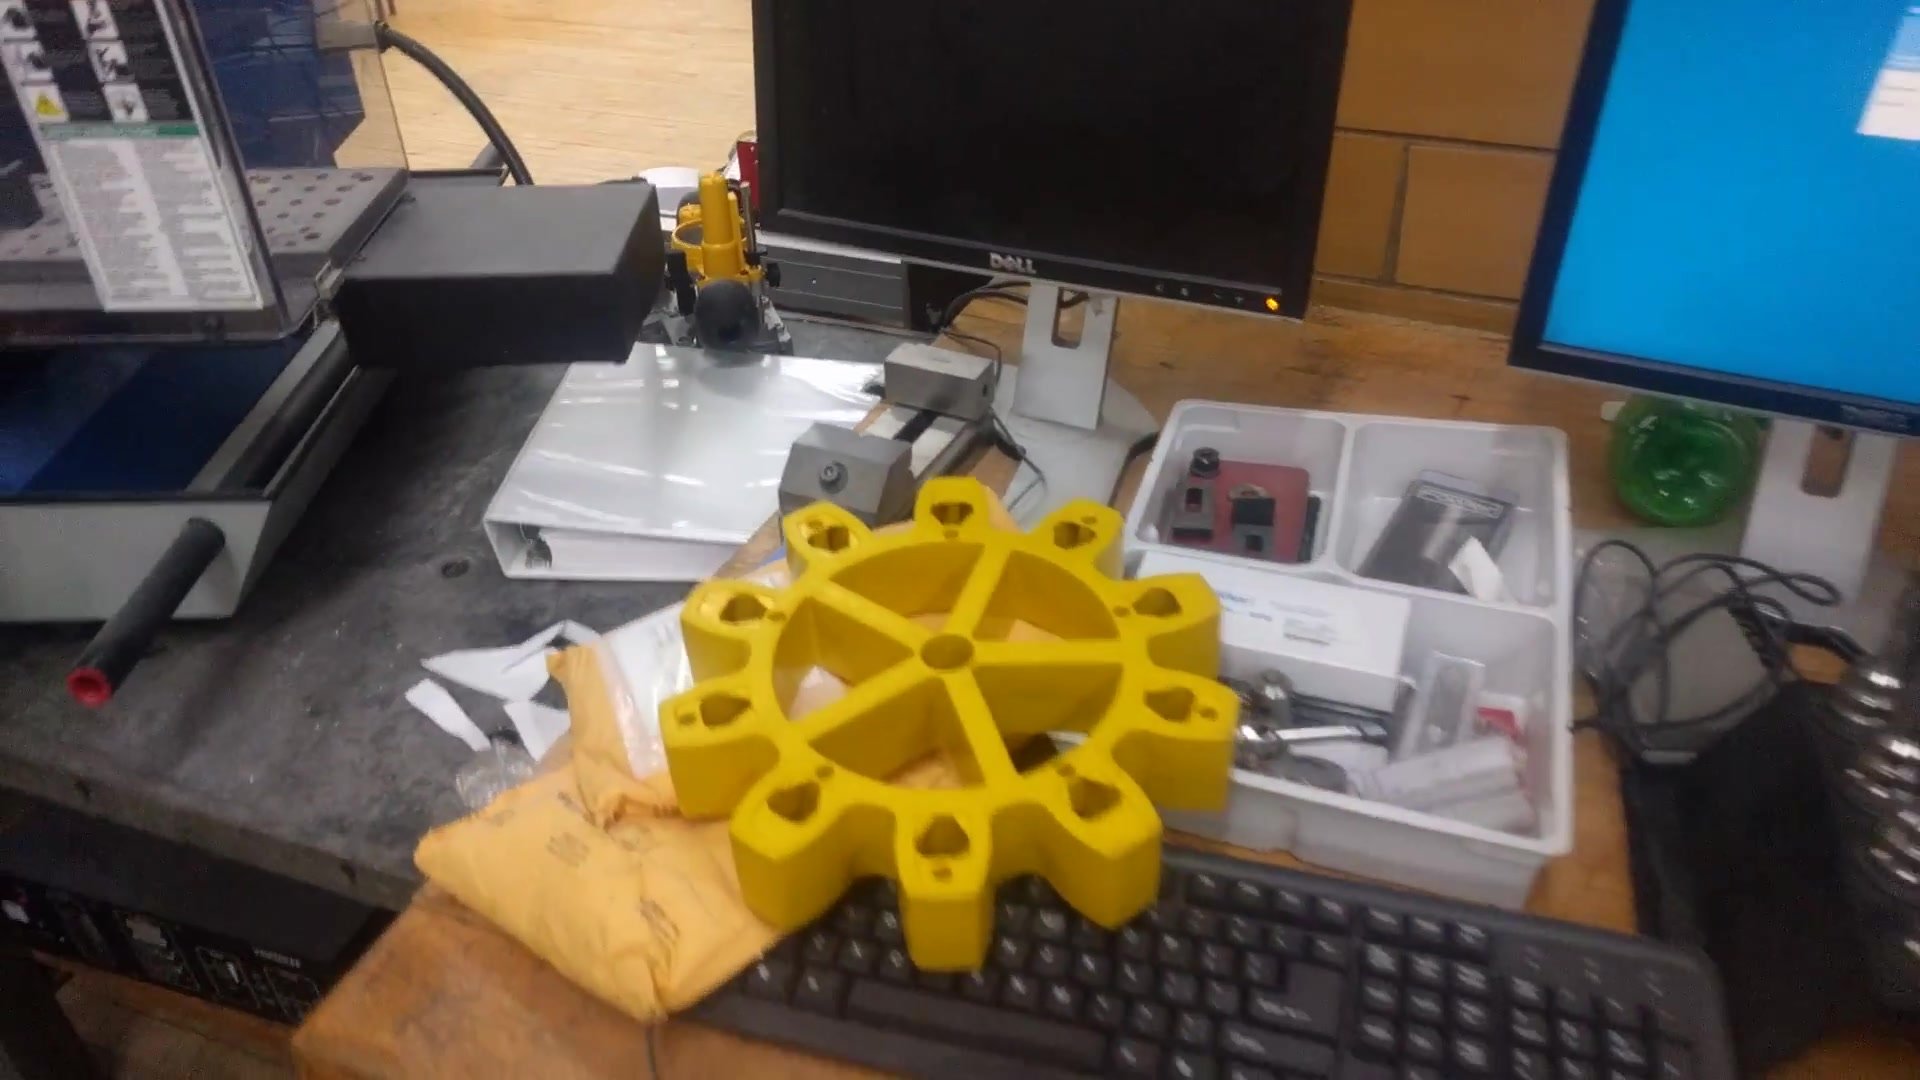gear: (655, 458, 1241, 996)
